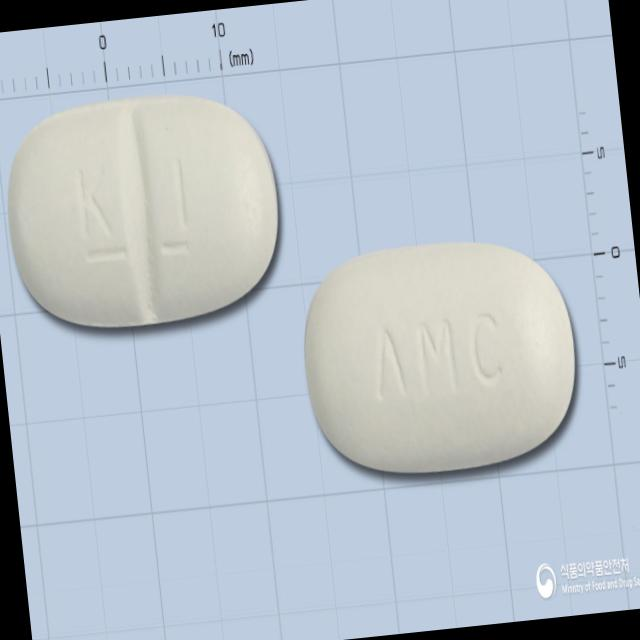Amocla Duo500mg: (0, 78, 291, 343), (293, 230, 586, 486)
